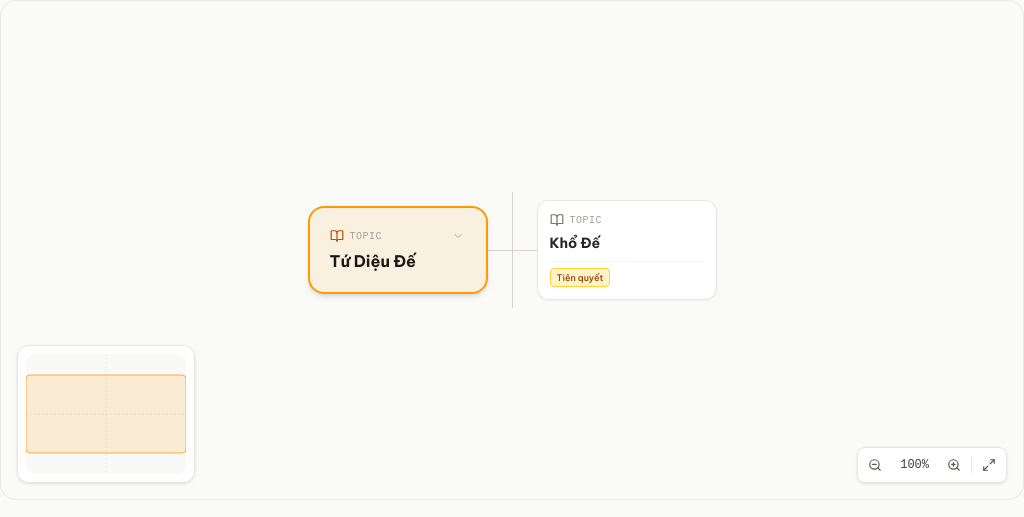
Mind Map Phase B1: Minimal Viewport Zoom Controls › Scenario 2: Zoom in increases scale by 10% and updates container style
Click the button with test id "btn-zoom-in". click: (954, 465)
box: 941,452 -> 967,478
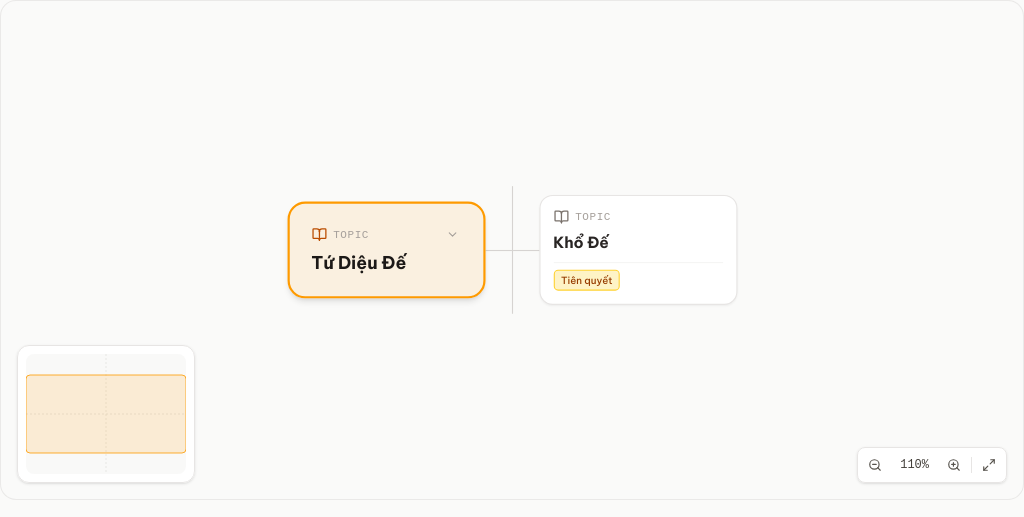
Result: the button with test id "btn-zoom-reset" reads "110%" at 892,453 -> 937,477
